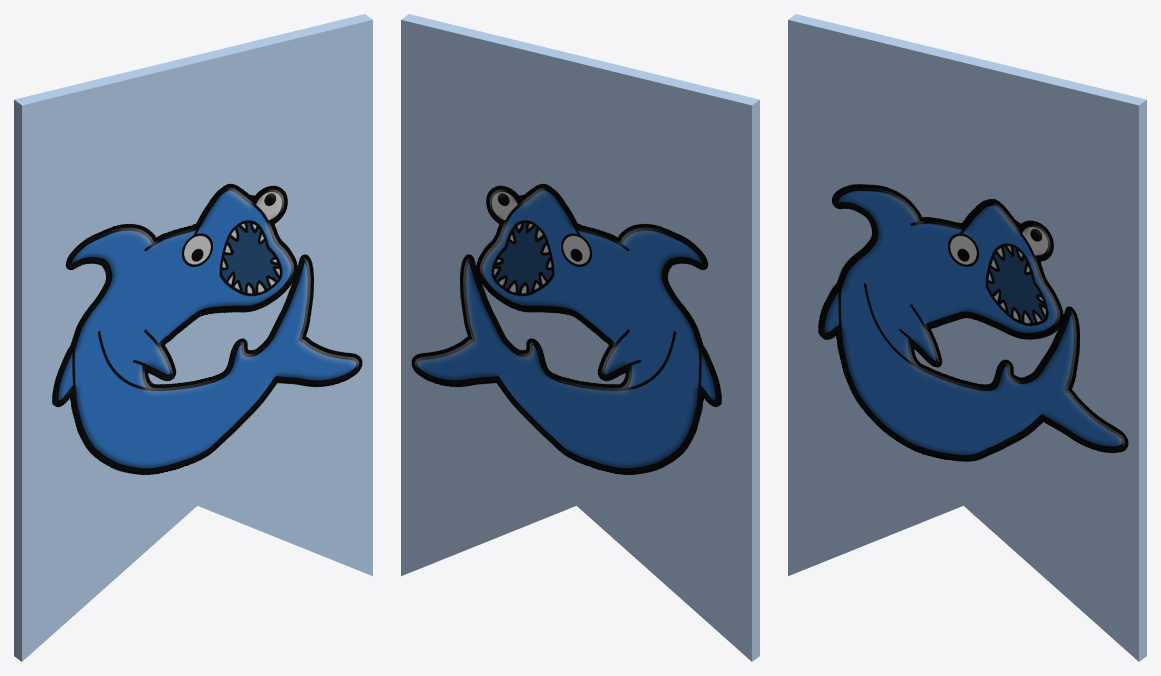
The model's file is Banner.fbx.
3 views of the same model, side by side, from view 1: azimuth 30°, elevation 25°; view 2: azimuth 150°, elevation 25°; view 3: azimuth 330°, elevation 25° (orthographic).
Parts seen in each view (by area): view 1: pCube2; view 2: pCube2; view 3: pCube2.
Part boxes in pixels (left/top/right/bottom): pCube2: left=14, top=14, right=372, bottom=661; pCube2: left=401, top=14, right=759, bottom=661; pCube2: left=788, top=14, right=1146, bottom=661.
Bounding box in the file's own units: 230 × 349 × 9.04.
